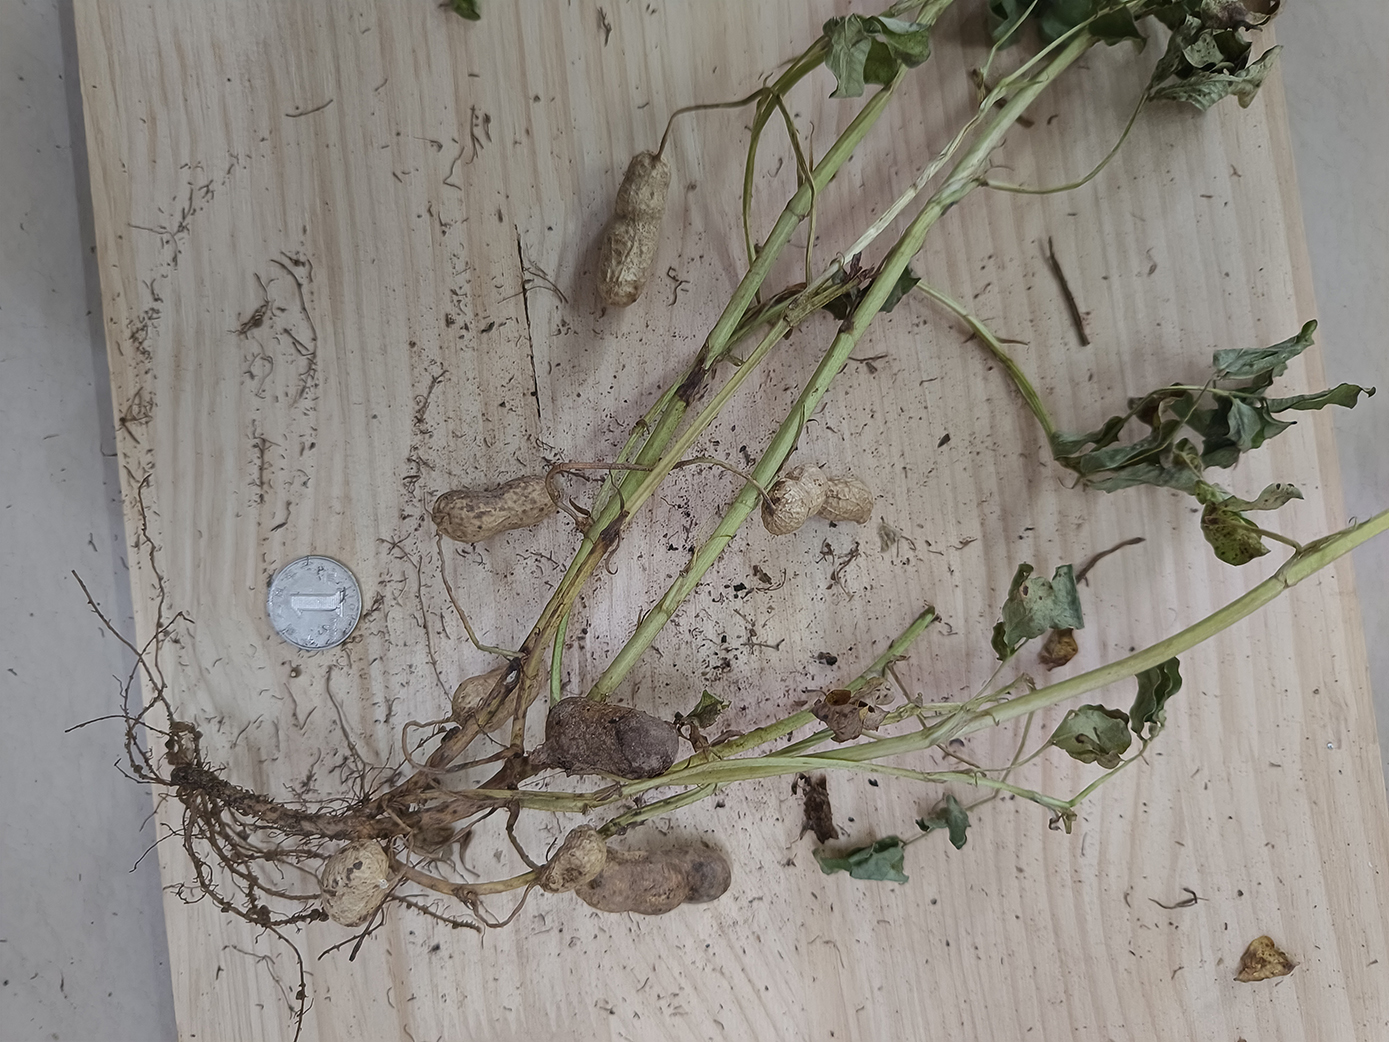h: (597, 151, 672, 306), (433, 476, 562, 543), (450, 656, 552, 734), (761, 467, 873, 539), (319, 843, 390, 927), (540, 826, 605, 895)
l: (547, 701, 678, 778), (577, 850, 733, 915)
